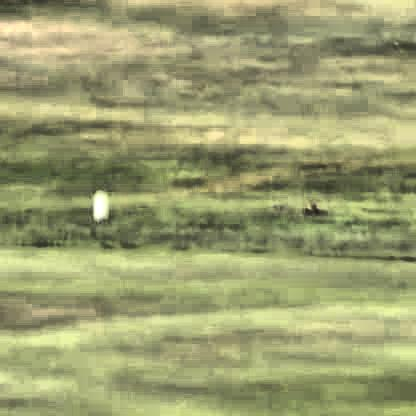golfball: (91, 187, 107, 215)
